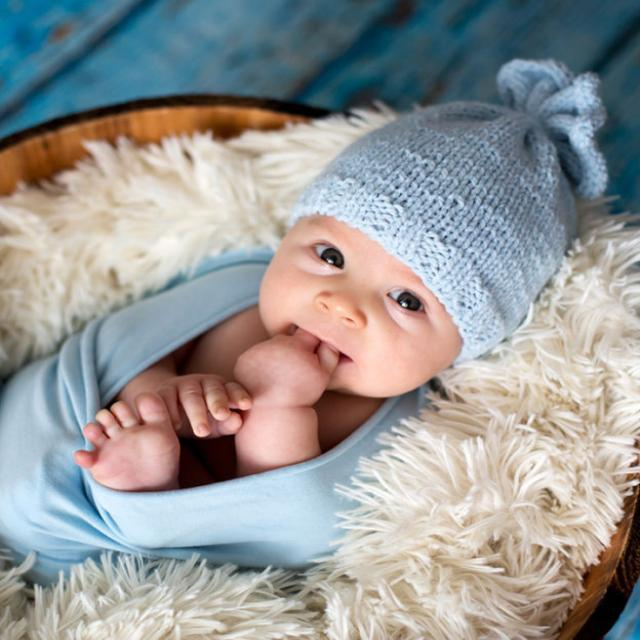non-dog: (0, 60, 609, 588)
